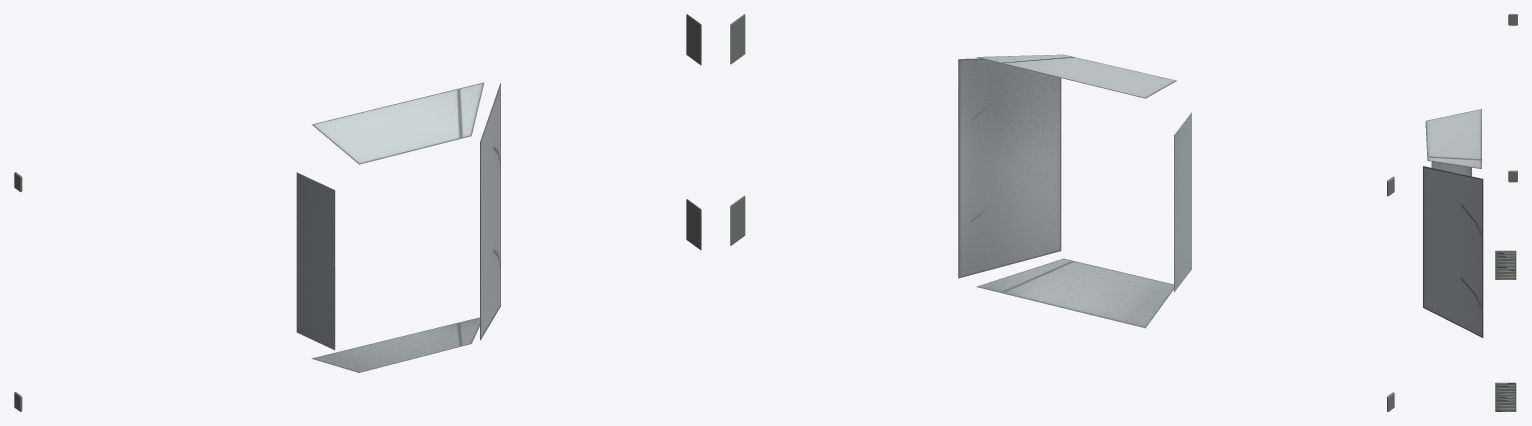
The model's file is pickup_glass.obj.
3 renders of one model, left to right at view 1: azimuth 30°, elevation 25°; view 2: azimuth 150°, elevation 25°; view 3: azimuth 270°, elevation 25°, orthographic. The views are drawn at different scales.
Visible parts, largest first — view 1: PIECE_L6_pickup_body:glass; view 2: PIECE_L6_pickup_body:glass; view 3: PIECE_L6_pickup_body:glass.
Part boxes in pixels (x1,y1,x2,y2): PIECE_L6_pickup_body:glass: [14, 14, 701, 411]; PIECE_L6_pickup_body:glass: [730, 14, 1394, 411]; PIECE_L6_pickup_body:glass: [1423, 14, 1517, 411].
Size of the model in its own units: 5.14 by 1.72 by 0.8811.
1 material, 1 textured.
